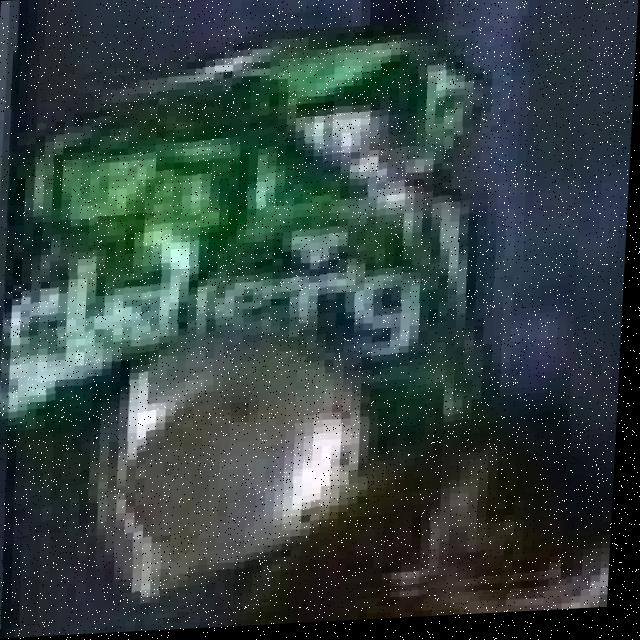can: (6, 24, 580, 604)
